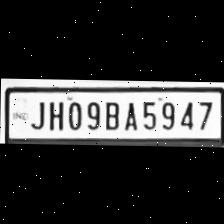0: (64, 98, 84, 130)
4: (176, 97, 194, 128)
5: (138, 96, 156, 129)
7: (193, 97, 213, 128)
9: (83, 98, 101, 130), (158, 96, 176, 128)
A: (121, 97, 139, 130)
B: (100, 97, 122, 129)
H: (44, 96, 64, 130)
J: (27, 97, 46, 128)
